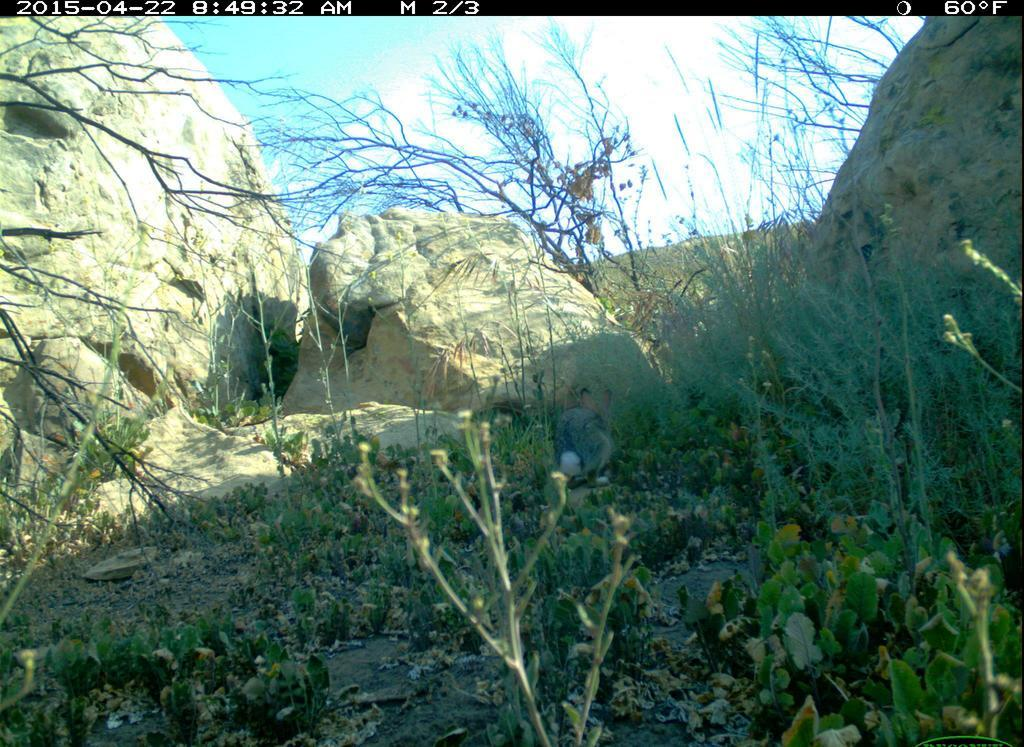rabbit: (541, 382, 625, 496)
